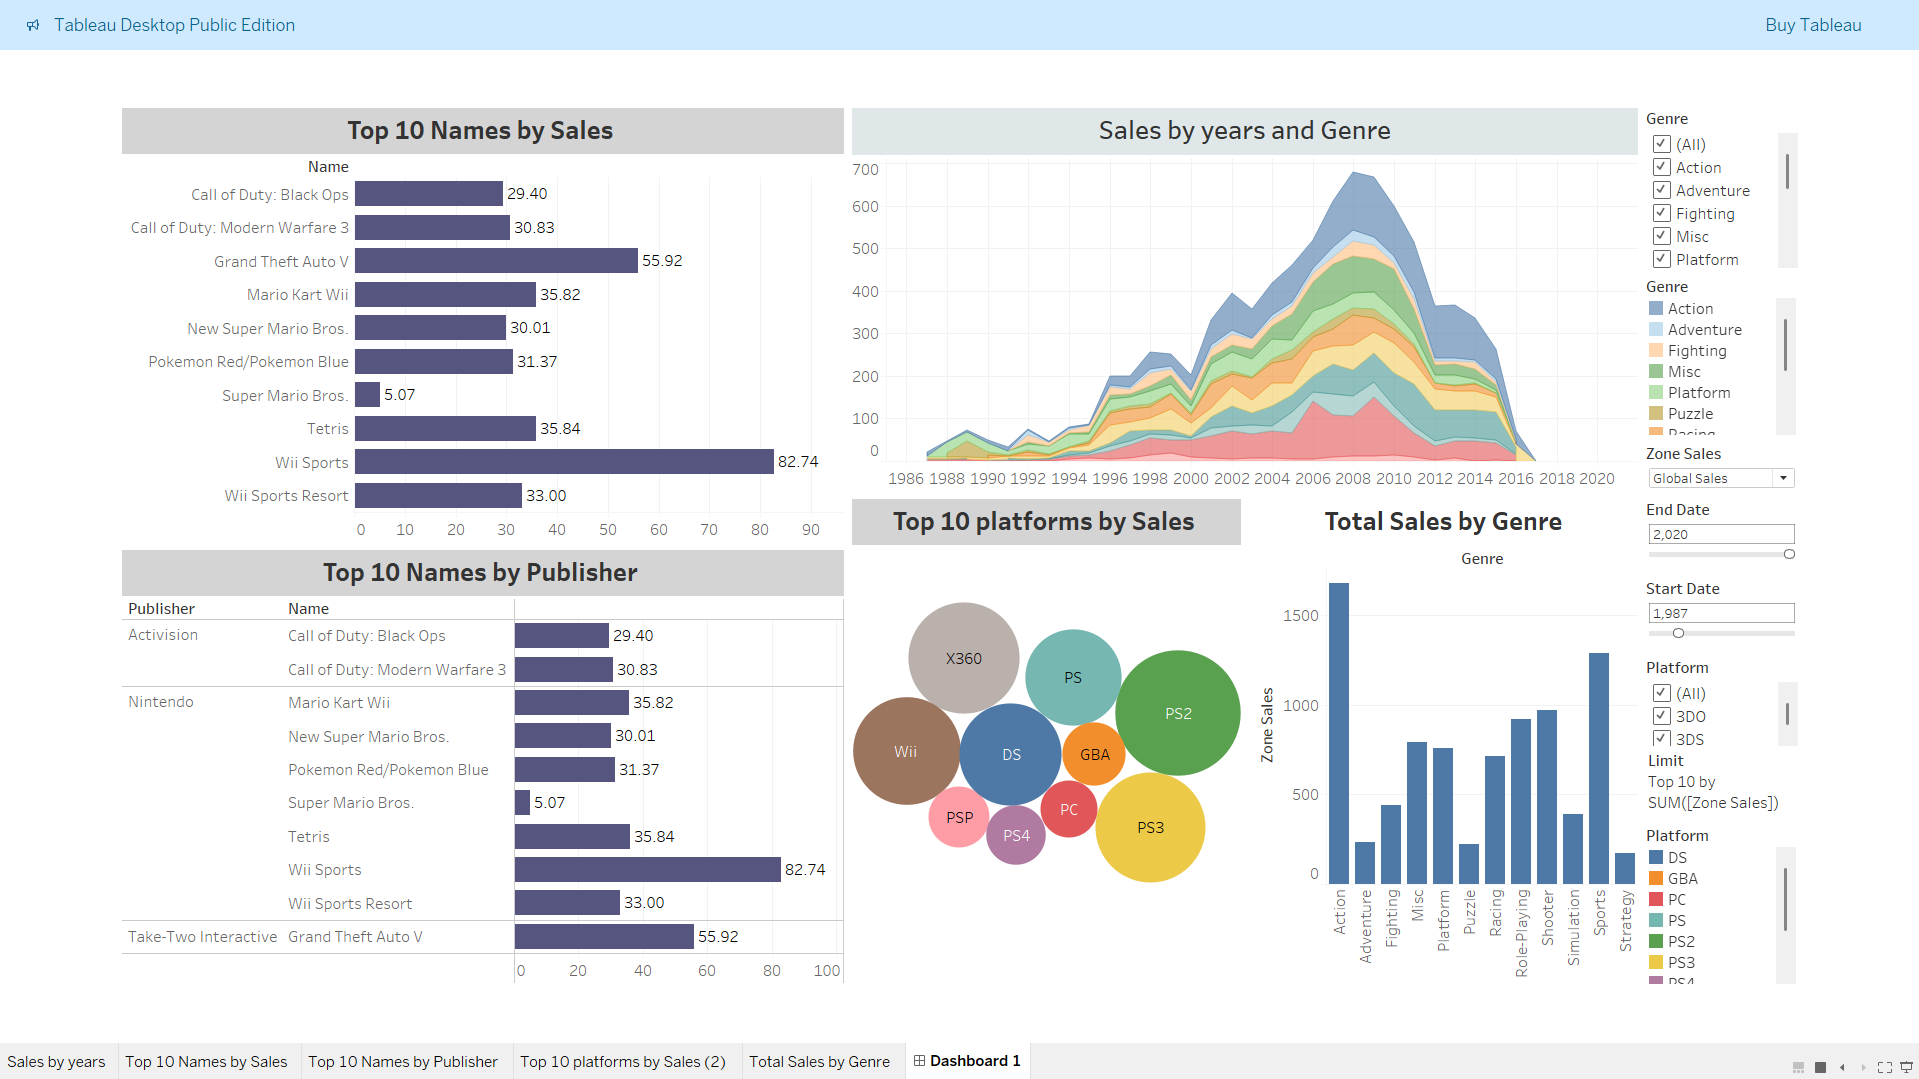

The page's visual inventory and layout, read from the dashboard file:
{"tool":"tableau","page":{"name":"Dashboard 1","canvas":[1700,900],"ordinal":0},"visuals":[{"type":"worksheet","title":"Top 10 Names by Sales","mark":"Automatic","rows":["Name"],"cols":["Calculation_5589530112484859904"],"box":[8,8,730,442]},{"type":"worksheet","title":"Sales by years","mark":"Area","rows":["Calculation_5589530112484859904"],"cols":["Year"],"box":[738,8,794,391]},{"type":"filter","title":"Sales by years","param":"[federated.1maq538159y7on1c2g1tb0j1bn72].[none:Genre:nk]","box":[1532,8,160,167.5]},{"type":"legend","title":"Sales by years","param":"[federated.1maq538159y7on1c2g1tb0j1bn72].[none:Genre:nk]","box":[1532,175.5,160,167.5]},{"type":"parameter","param":"[Parameters].[Parameter 1]","box":[1532,343,160,56]},{"type":"worksheet","title":"Top 10 platforms by Sales (2)","mark":"Circle","box":[738,399,397,493]},{"type":"worksheet","title":"Total Sales by Genre","mark":"Automatic","rows":["Calculation_5589530112484859904"],"cols":["Genre"],"box":[1135,399,397,493]},{"type":"parameter","param":"[Parameters].[Parameter 3]","box":[1532,399,160,79]},{"type":"worksheet","title":"Top 10 Names by Publisher","mark":"Automatic","rows":["Publisher","Name"],"cols":["Calculation_5589530112484859904"],"box":[8,450,730,442]},{"type":"parameter","param":"[Parameters].[Parameter 2]","box":[1532,478,160,79]},{"type":"filter","title":"Top 10 platforms by Sales (2)","param":"[federated.1maq538159y7on1c2g1tb0j1bn72].[none:Platform:nk]","box":[1532,557,160,167.5]},{"type":"legend","title":"Top 10 platforms by Sales (2)","param":"[federated.1maq538159y7on1c2g1tb0j1bn72].[none:Platform:nk]","box":[1532,724.5,160,167.5]}]}

Visuals, with their boxes on the page's 1700x900 design canvas (x1, y1, x2, y2). These are canvas units, not pixel positions in the 1919x1079 screenshot, which may show the page scaled, cropped or inside an application window:
"Top 10 Names by Sales" worksheet: (x1=8, y1=8, x2=738, y2=450)
"Sales by years" worksheet (Area marks): (x1=738, y1=8, x2=1532, y2=399)
"Sales by years" filter: (x1=1532, y1=8, x2=1692, y2=176)
"Sales by years" legend: (x1=1532, y1=176, x2=1692, y2=343)
parameter: (x1=1532, y1=343, x2=1692, y2=399)
"Top 10 platforms by Sales (2)" worksheet (Circle marks): (x1=738, y1=399, x2=1135, y2=892)
"Total Sales by Genre" worksheet: (x1=1135, y1=399, x2=1532, y2=892)
parameter: (x1=1532, y1=399, x2=1692, y2=478)
"Top 10 Names by Publisher" worksheet: (x1=8, y1=450, x2=738, y2=892)
parameter: (x1=1532, y1=478, x2=1692, y2=557)
"Top 10 platforms by Sales (2)" filter: (x1=1532, y1=557, x2=1692, y2=724)
"Top 10 platforms by Sales (2)" legend: (x1=1532, y1=724, x2=1692, y2=892)
